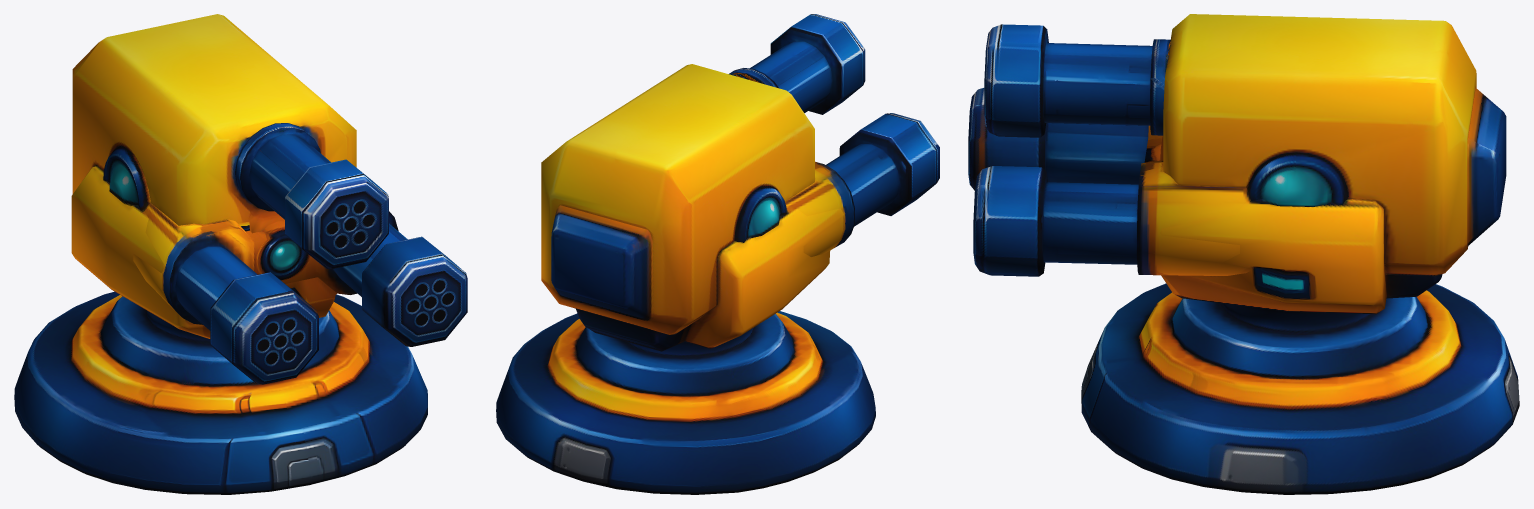
The picture shows the model from 3 angles, left to right: view 1: azimuth 30°, elevation 25°; view 2: azimuth 150°, elevation 25°; view 3: azimuth 270°, elevation 25°; orthographic projection. The views are drawn at different scales.
Parts seen in each view (by area): view 1: TurretHead, TurretBase; view 2: TurretHead, TurretBase; view 3: TurretHead, TurretBase.
Part boxes in pixels (box(x1,y1,x2,y2)): TurretHead: box(71, 14, 467, 384); TurretBase: box(14, 291, 427, 494); TurretHead: box(541, 14, 939, 351); TurretBase: box(496, 311, 875, 494); TurretHead: box(968, 14, 1506, 316); TurretBase: box(1081, 283, 1519, 494).
Size of the model in its own units: 171 by 215 by 156.
1 material, 1 textured.
